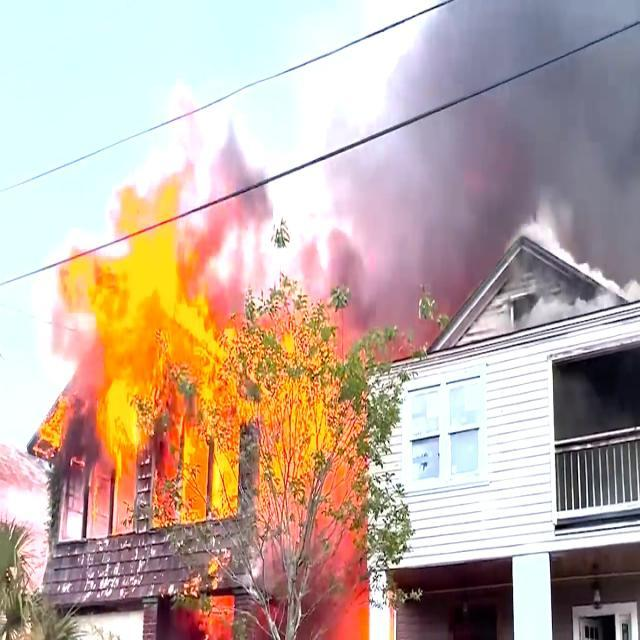Fire: (71, 176, 237, 510), (247, 303, 351, 640)
Smoke: (315, 0, 640, 252)
